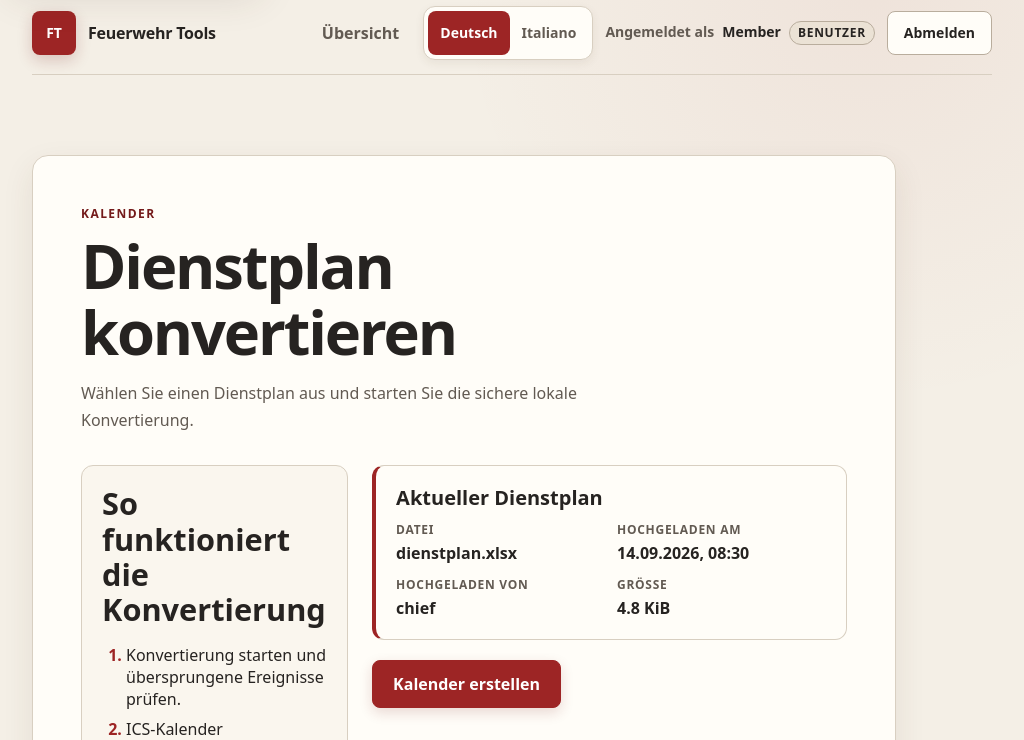
Test: calendar converter page › per-person calendars › tells a plain user when the schedule has no events for them
The width and height of the screenshot is (1024, 740).
Expected: the text "dienstplan.xlsx" is shown, [396,542,517,564]
Click the button "Kalender erstellen". click: (467, 684)
box: [372,660,561,708]
(page scrolled)
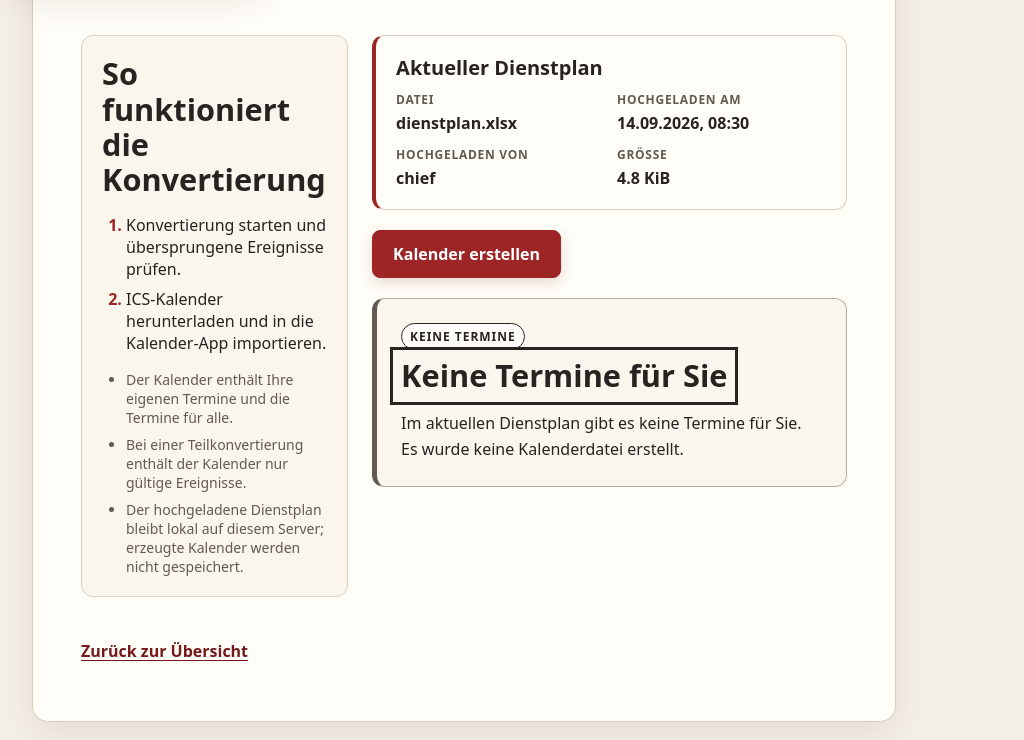
Expected: the heading "Keine Termine für Sie" is shown, [401,358,727,394]
